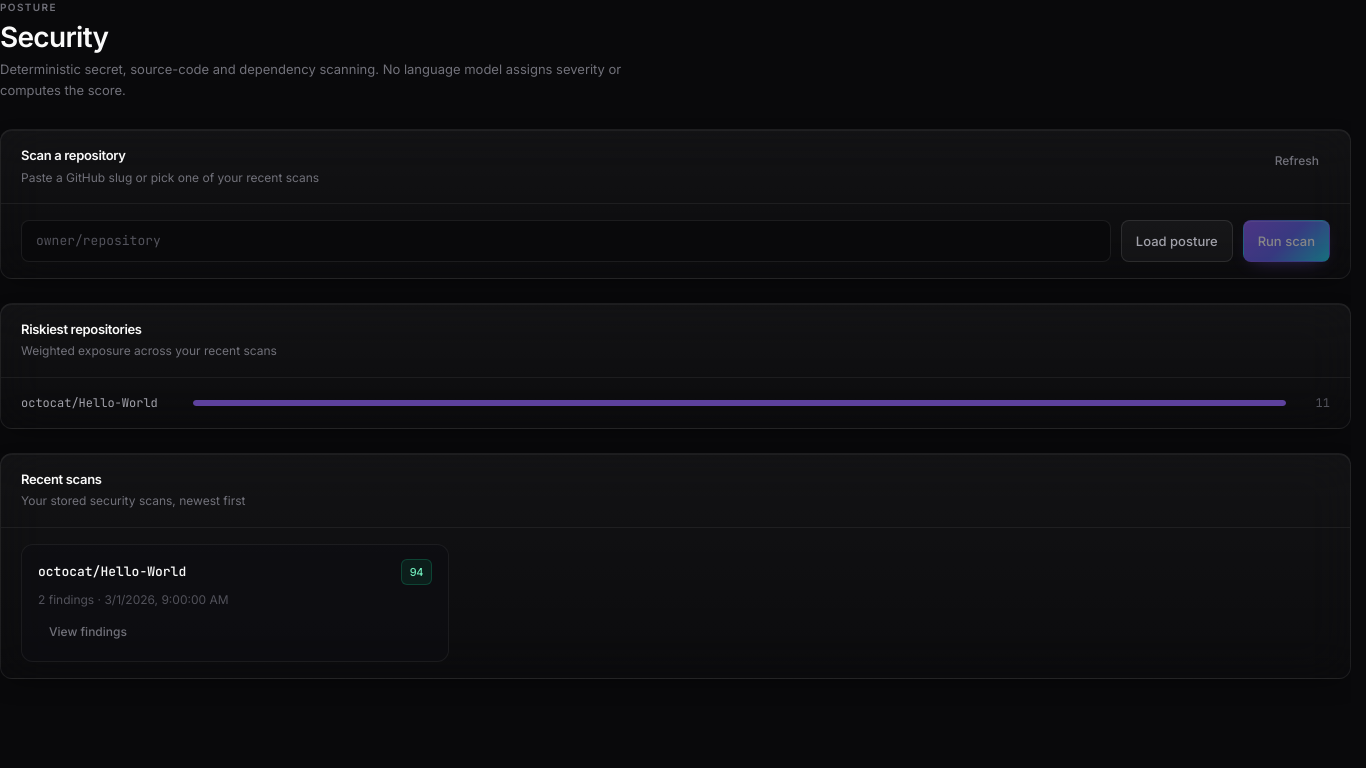
SecurityPage › running a scan › reports a failed scan without clearing the previous result
The image size is (1366, 768).
Type "octocat/Hello-World" into the field labelled "repository". click: (566, 241)
box: [21,220,1111,262]
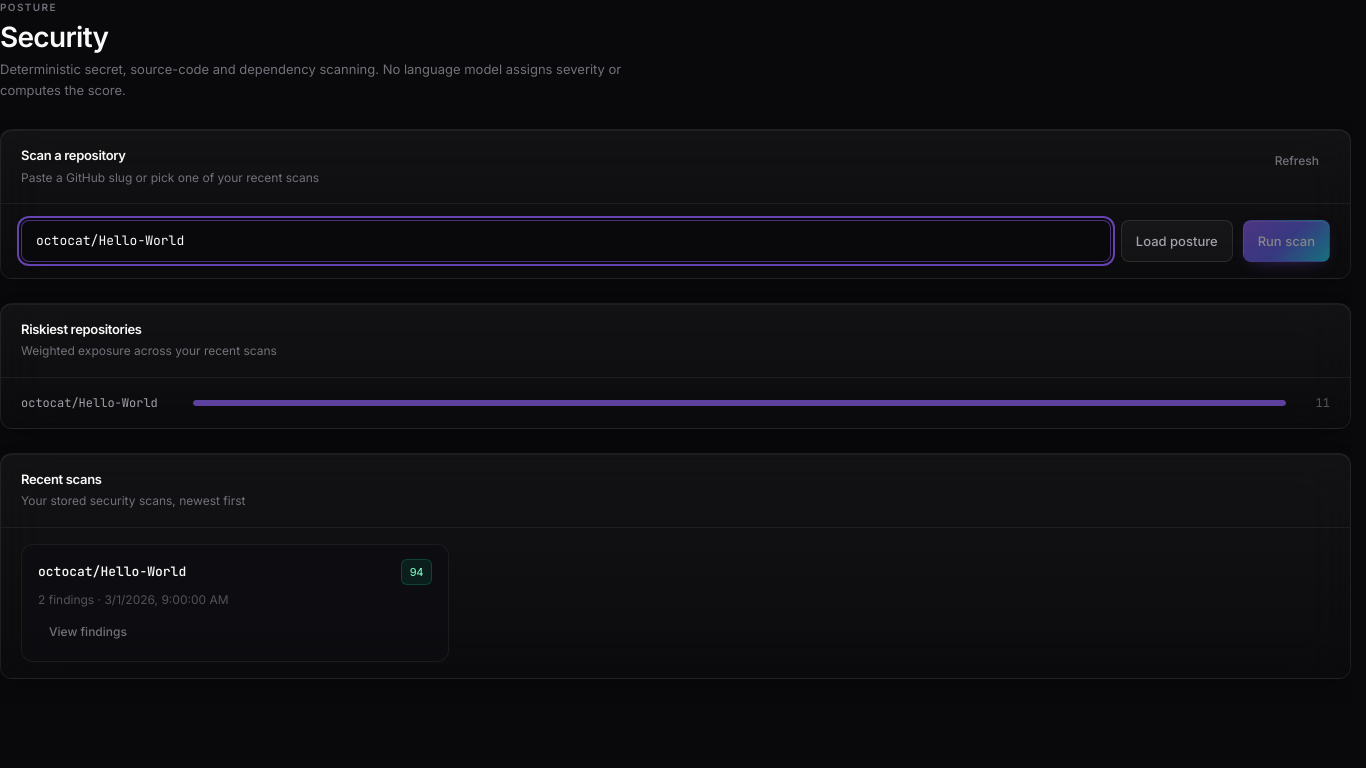
Click the button "Load posture". click: (1177, 241)
box: [1121,220,1233,262]
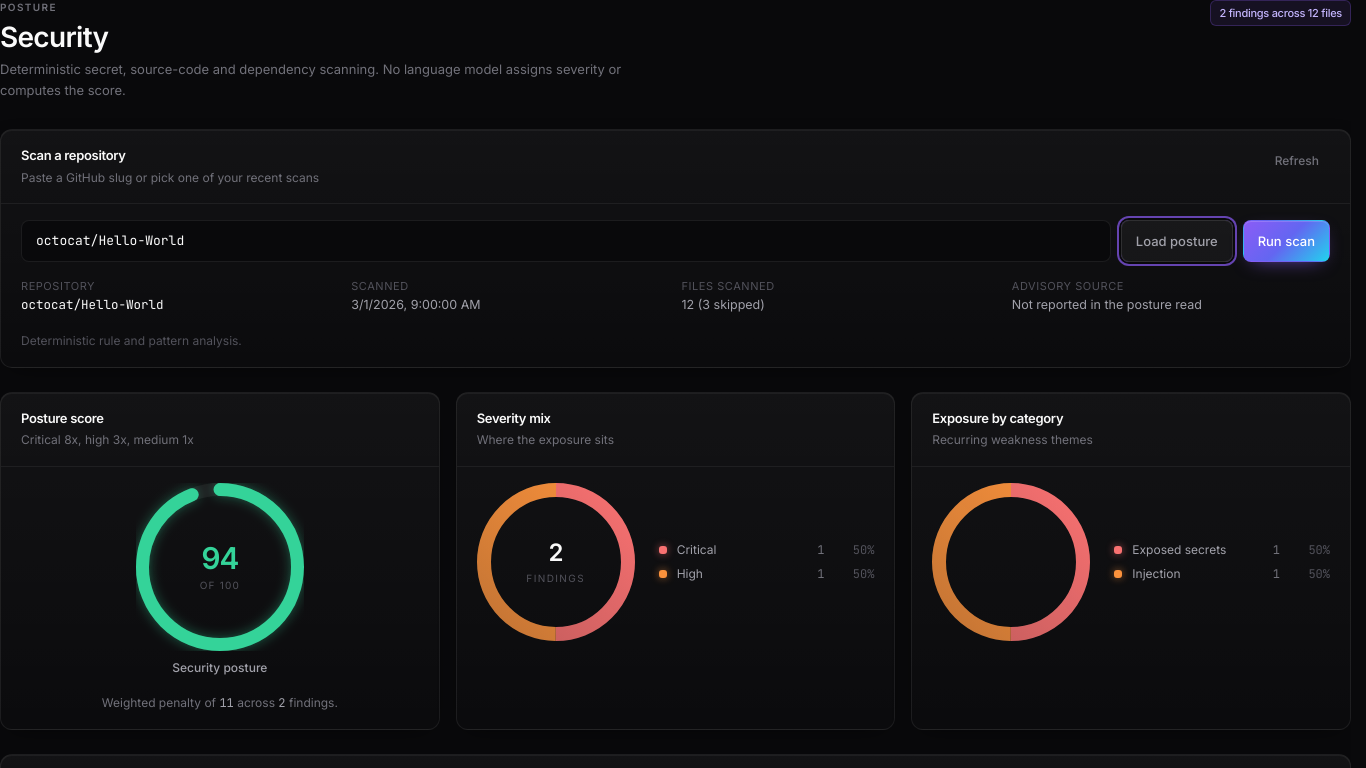
Click the button "Run scan". click: (1286, 241)
box: [1243,220,1330,262]
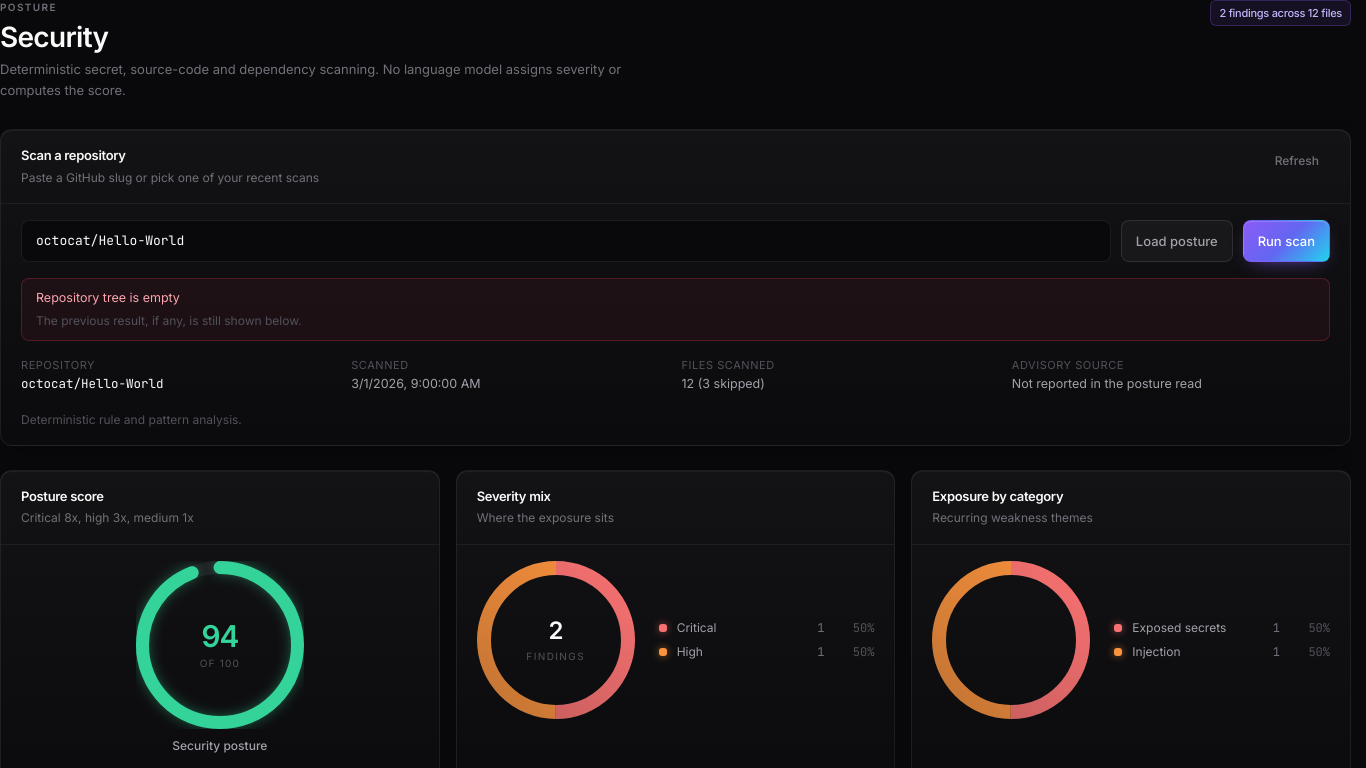
expect the heading "Posture score" is shown: met, box [21,488,104,504]
expect the message shows "Repository tree is empty": met, box [36,290,180,305]
